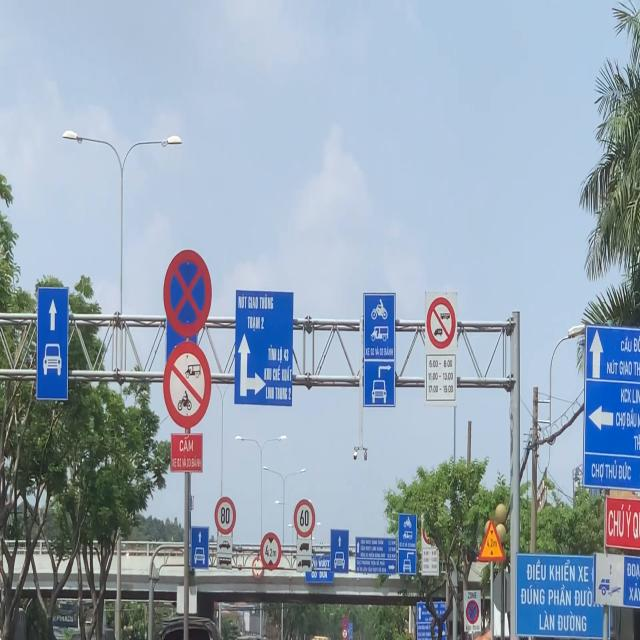Cam con lai: (163, 340, 212, 429), (427, 296, 456, 351)
Cam dung va do: (163, 249, 213, 337), (466, 600, 479, 624), (342, 617, 348, 628)
Chieu cao toi da: (260, 532, 281, 570)
Nguy hiem: (477, 517, 507, 563)
Toc do toi da: (215, 496, 236, 535), (294, 499, 315, 537)
